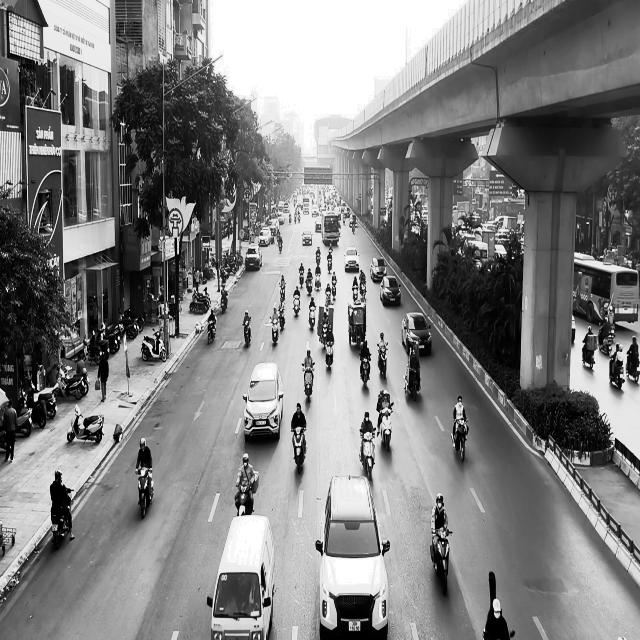bus: (572, 252, 640, 326)
car: (316, 474, 390, 639), (207, 514, 275, 639), (242, 361, 284, 441), (401, 312, 432, 356), (380, 276, 401, 306), (370, 257, 386, 282), (344, 246, 359, 271), (302, 228, 312, 245)
motorbike: (67, 403, 104, 444), (430, 527, 452, 595), (50, 488, 74, 550), (135, 466, 153, 519), (359, 428, 377, 480), (141, 329, 167, 361), (291, 426, 307, 474), (451, 418, 468, 462), (378, 403, 393, 451), (301, 361, 315, 403), (608, 354, 624, 390), (625, 351, 640, 383), (359, 353, 371, 389), (376, 342, 388, 377), (269, 316, 279, 345), (324, 340, 334, 369), (243, 318, 251, 347), (207, 320, 216, 344), (308, 306, 316, 329), (293, 293, 300, 316)
